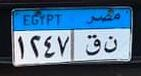1: (16, 33, 25, 60)
2: (28, 34, 41, 58)
4: (43, 35, 56, 58)
7: (56, 36, 70, 57)
noon: (104, 36, 118, 54)
qaaf: (83, 33, 101, 57)
